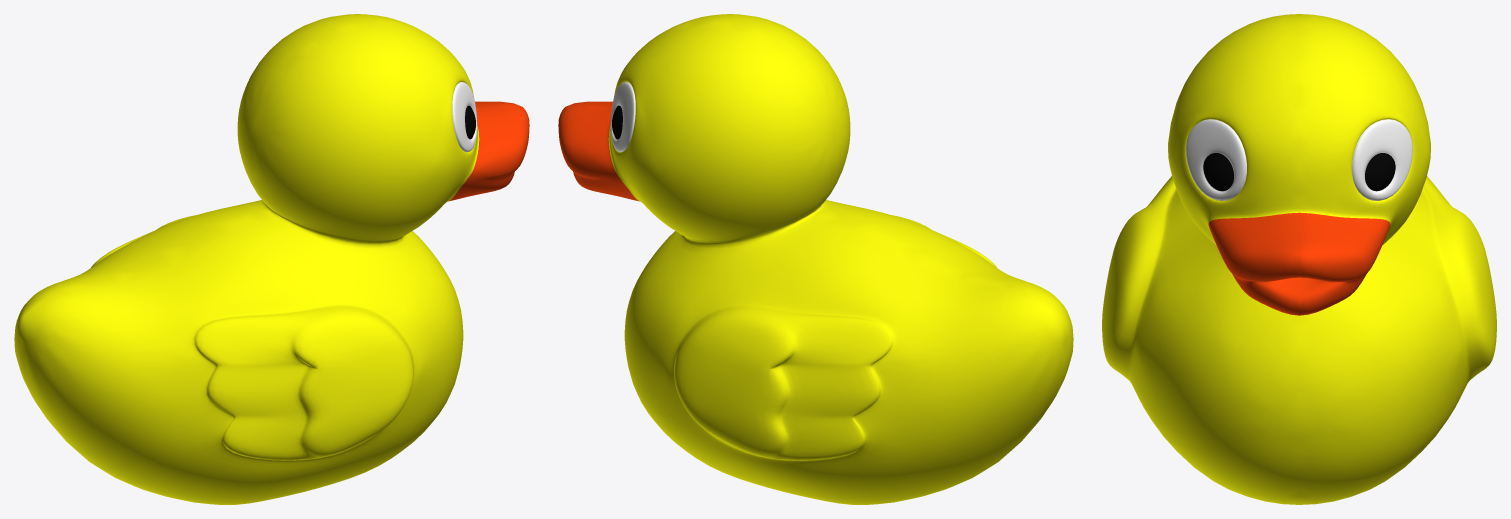
The model's file is Duck.obj.
3 views of the same model, side by side, from view 1: azimuth 30°, elevation 25°; view 2: azimuth 150°, elevation 25°; view 3: azimuth 270°, elevation 25° (orthographic). The views are drawn at different scales.
Parts seen in each view (by area): view 1: 19354_Rubber_duck_v1; view 2: 19354_Rubber_duck_v1; view 3: 19354_Rubber_duck_v1.
Part boxes in pixels (x1=…): 19354_Rubber_duck_v1: x1=14, y1=14, x2=529, y2=504; 19354_Rubber_duck_v1: x1=558, y1=14, x2=1073, y2=504; 19354_Rubber_duck_v1: x1=1102, y1=14, x2=1496, y2=504.
Size of the model in its own units: 4.98 by 4.05 by 3.01.
